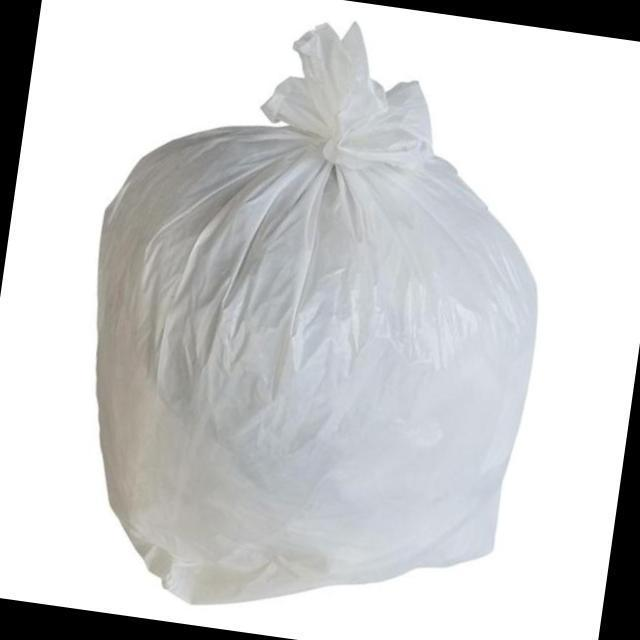Garbage_Bag: (46, 15, 576, 640)
